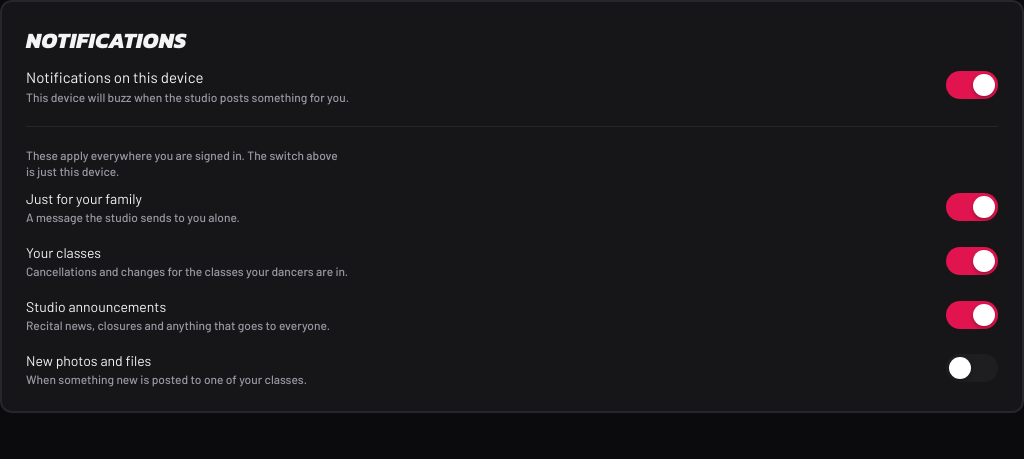
the category switches › puts the switch back when the write fails
Click the switch named "just for your family" in the row of "A message the studio sends to you alone." at [972, 207], box top-left (946, 193), bottom-right (998, 221)
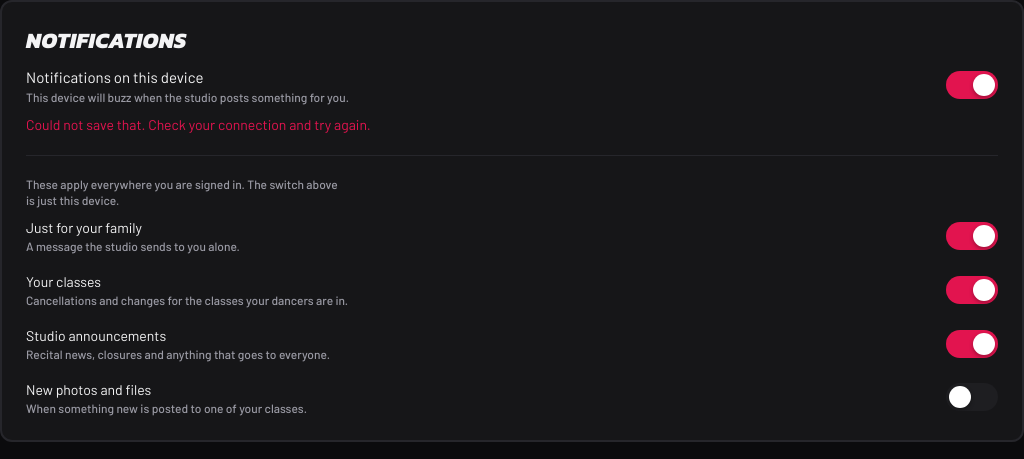
Expected: the message shows "Could not save", top-left (26, 116), bottom-right (371, 133)
